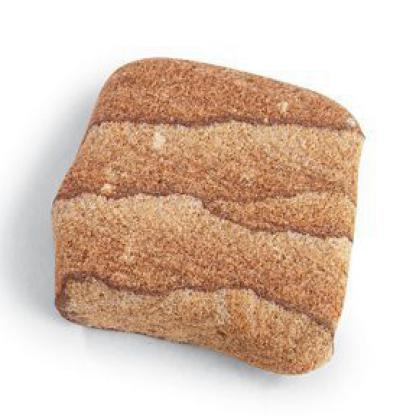Sedimentary_Sandstone: (25, 57, 374, 377)
